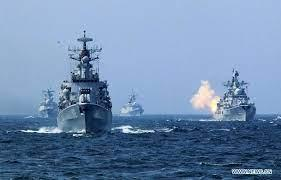MIL_Ship: (56, 28, 114, 135), (213, 67, 257, 123), (119, 89, 146, 117), (36, 86, 57, 122)
